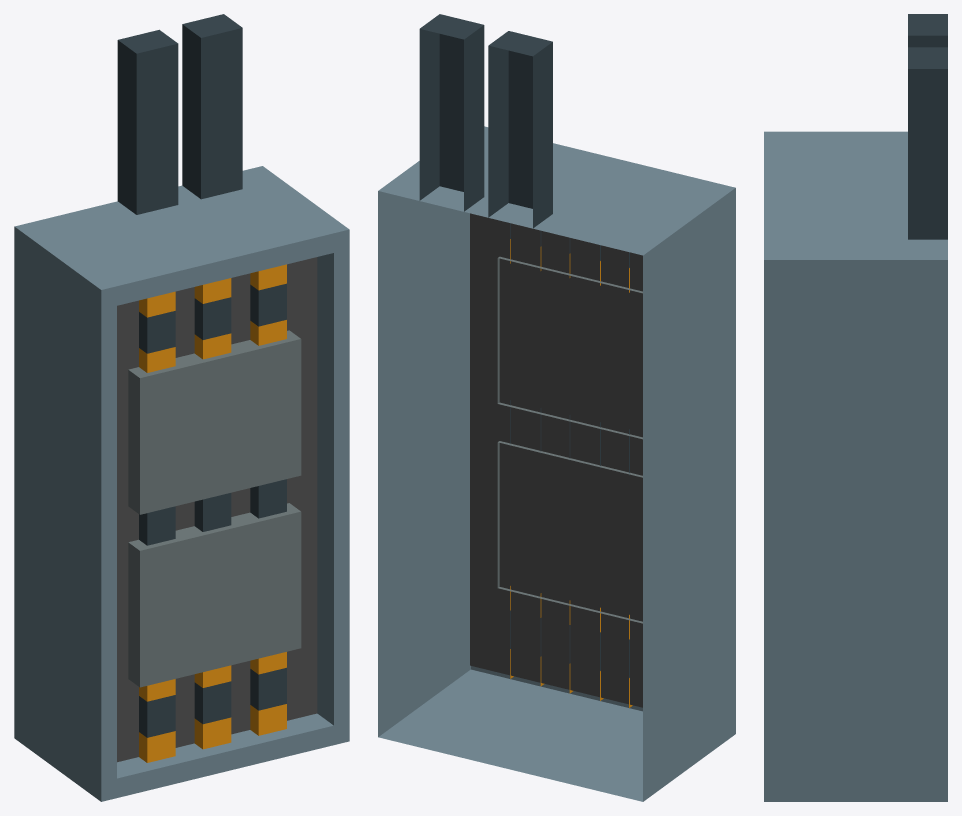
The model's file is Power_Station_02_LV2.fbx.
3 renders of one model, left to right at view 1: azimuth 30°, elevation 25°; view 2: azimuth 150°, elevation 25°; view 3: azimuth 270°, elevation 25°, orthographic. The views are drawn at different scales.
Parts seen in each view (by area): view 1: Power_Station_02_LV2; view 2: Power_Station_02_LV2; view 3: Power_Station_02_LV2.
Boxes of the visible parts, <box> form: Power_Station_02_LV2: <box>14,14,349,801</box>; Power_Station_02_LV2: <box>378,14,735,801</box>; Power_Station_02_LV2: <box>764,14,947,801</box>.
Bounding box in the file's own units: 143 × 370 × 86.44.
